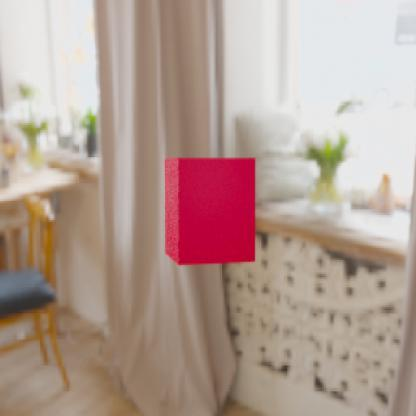cube: (164, 156, 256, 265)
